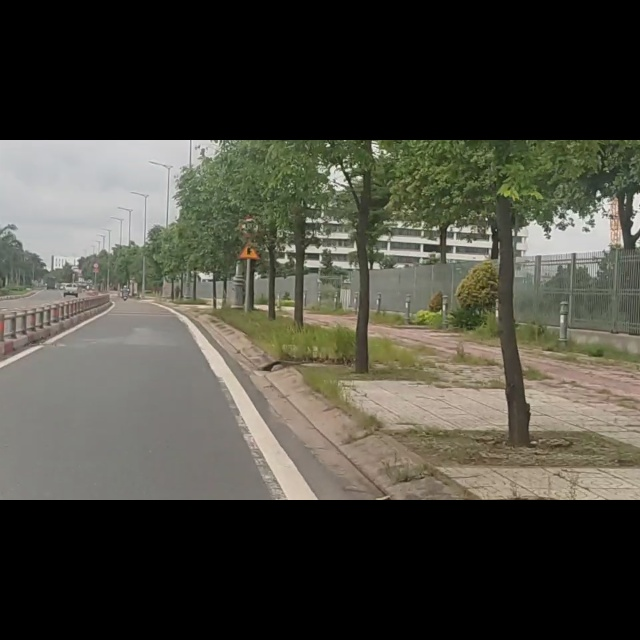bien_nguy_hiem: (237, 177, 260, 212)
